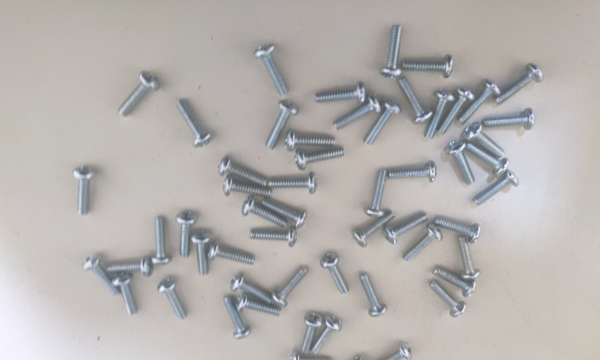shortscrew: (118, 70, 161, 119), (496, 63, 545, 105), (458, 79, 502, 124), (176, 99, 214, 149), (438, 87, 476, 136), (254, 43, 289, 96), (266, 100, 300, 152), (398, 77, 434, 126), (364, 100, 401, 147), (334, 95, 382, 131), (473, 171, 520, 206), (83, 254, 121, 297), (271, 265, 309, 308), (424, 91, 457, 140), (402, 224, 443, 263), (353, 211, 396, 248), (383, 212, 430, 245), (218, 157, 269, 187), (430, 280, 468, 320), (242, 195, 289, 227), (262, 197, 308, 228), (467, 144, 510, 177), (230, 273, 274, 305), (465, 123, 505, 158), (434, 215, 482, 244), (446, 139, 475, 187), (158, 278, 189, 321), (223, 296, 252, 341), (294, 147, 346, 172), (360, 273, 389, 317), (432, 268, 476, 297), (312, 314, 343, 355), (320, 253, 349, 296), (364, 170, 389, 218), (483, 108, 535, 131), (402, 55, 454, 78), (380, 25, 402, 78), (175, 211, 199, 259), (112, 272, 138, 316), (269, 172, 318, 195), (285, 130, 336, 152), (208, 242, 256, 265), (236, 293, 282, 317), (74, 166, 96, 216), (389, 161, 437, 183), (316, 83, 366, 104), (249, 227, 298, 248), (459, 236, 482, 280), (223, 176, 273, 196), (151, 218, 172, 265), (301, 312, 324, 354), (107, 259, 156, 278), (191, 230, 211, 276), (370, 343, 412, 360), (290, 350, 334, 360), (353, 355, 384, 360)
